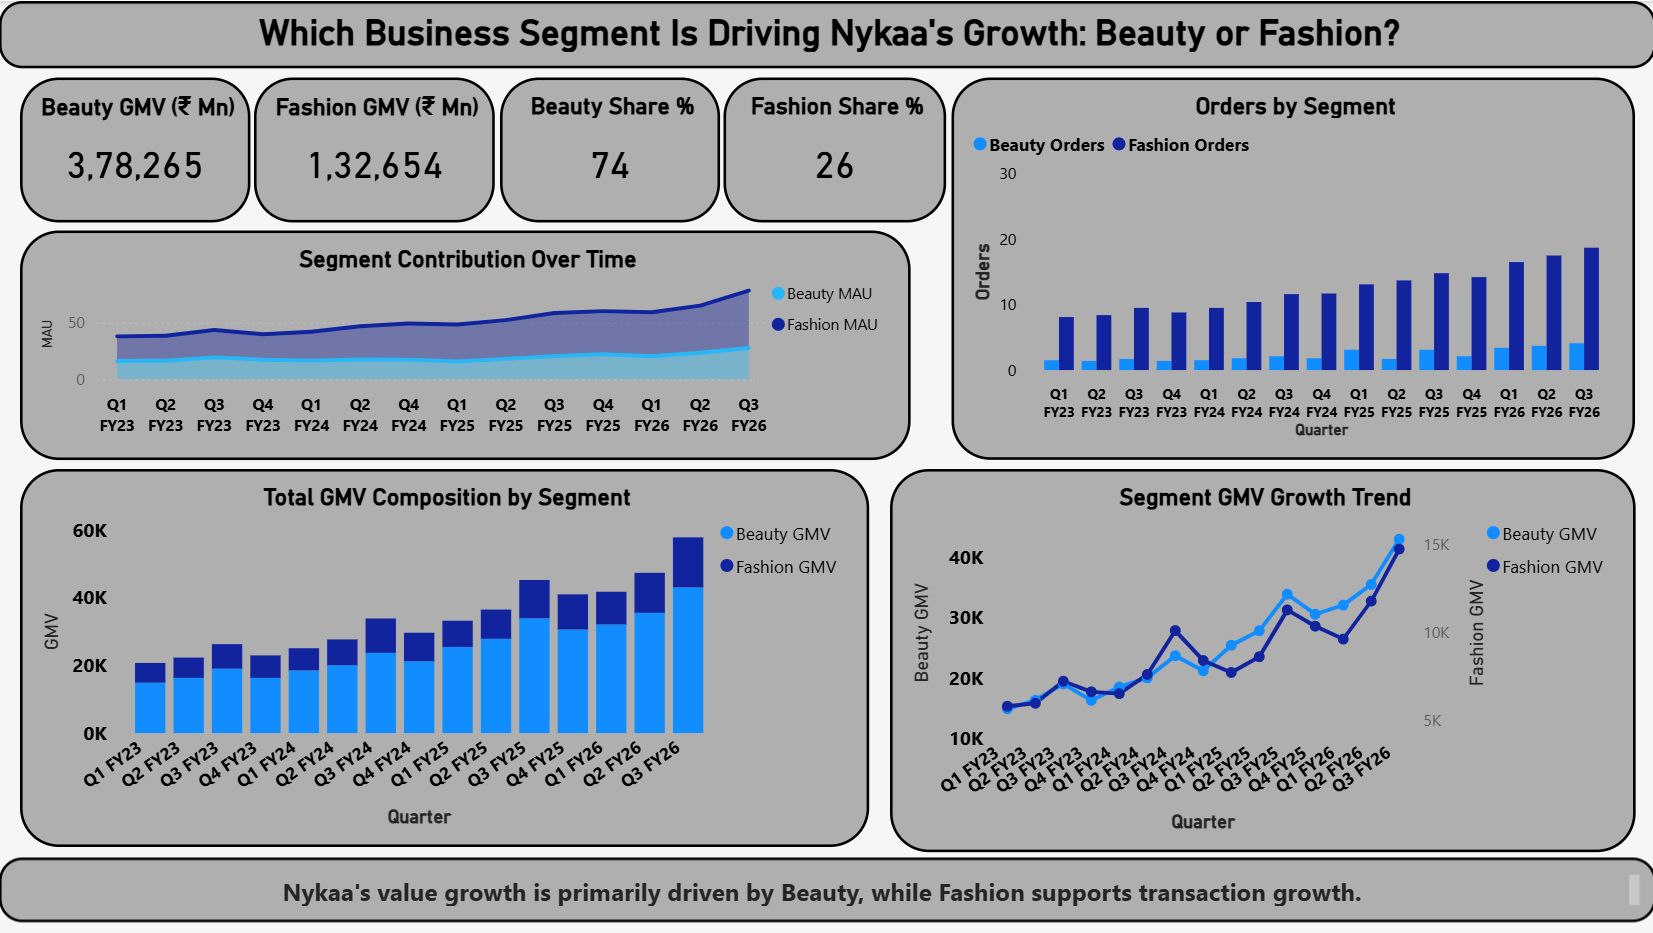

The dashboard page shown, as its layout file describes it:
{"tool":"powerbi","page":{"name":"Beauty_vs_Fashion","canvas":[1280,720],"ordinal":2},"visuals":[{"type":"textbox","title":"Which Business Segment Is Driving Nykaa''s Growth: Beauty or Fashion?","box":[0,0,1280,52],"z":0},{"type":"card","title":"Beauty GMV (₹ Mn)","fields":{"Values":["nykaa_master.Total Beauty GMV"]},"box":[16,59,178,112],"z":1000},{"type":"card","title":"Fashion GMV (₹ Mn)","fields":{"Values":["nykaa_master.Total Fashion GMV"]},"box":[197.3,59,186,112],"z":2000},{"type":"card","title":"Beauty Share %","fields":{"Values":["nykaa_master.Beauty Contribution %"]},"box":[386.7,59,170,112],"z":3000},{"type":"card","title":"Fashion Share %","fields":{"Values":["nykaa_master.Fashion Contribution %"]},"box":[560,59,172,112],"z":4000},{"type":"lineChart","title":"Segment GMV Growth Trend","fields":{"Category":["nykaa_master.quarter"],"Y":["Sum(nykaa_master.beauty_gmv)"],"Y2":["Sum(nykaa_master.fashion_gmv)"]},"box":[688,361,576,296],"z":5000},{"type":"clusteredColumnChart","title":"Orders by Segment","fields":{"Category":["nykaa_master.quarter"],"Y":["Sum(nykaa_master.beauty_orders)","Sum(nykaa_master.fashion_orders)"]},"box":[736,59,528,295],"z":6000},{"type":"stackedAreaChart","title":"Segment Contribution Over Time","fields":{"Y":["Sum(nykaa_master.beauty_mauv)","Sum(nykaa_master.fashion_mauv)"],"Category":["nykaa_master.quarter"]},"box":[16,177,688,177],"z":7000},{"type":"columnChart","title":"Total GMV Composition by Segment","fields":{"Category":["nykaa_master.quarter"],"Y":["Sum(nykaa_master.beauty_gmv)","Sum(nykaa_master.fashion_gmv)"]},"box":[16,361,656,292],"z":8000},{"type":"textbox","box":[0,662,1280,50],"z":9000}]}

Visuals, with their boxes in screenshot pixels (x1, y1, x2, y2), scaled from the page's 1280x720 canvas onto the 1653x933 screenshot:
"Which Business Segment Is Driving Nykaa''s Growth: Beauty or Fashion?" textbox: 0 0 1652 67
"Beauty GMV (₹ Mn)" card: 21 76 251 222
"Fashion GMV (₹ Mn)" card: 255 76 495 222
"Beauty Share %" card: 499 76 719 222
"Fashion Share %" card: 723 76 945 222
"Segment GMV Growth Trend" lineChart: 888 468 1632 851
"Orders by Segment" clusteredColumnChart: 950 76 1632 459
"Segment Contribution Over Time" stackedAreaChart: 21 229 909 459
"Total GMV Composition by Segment" columnChart: 21 468 868 846
textbox: 0 858 1652 923
